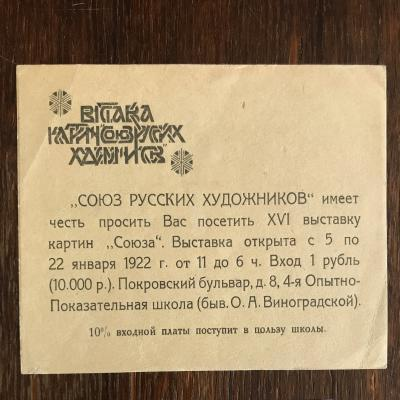document: (16, 65, 389, 376)
